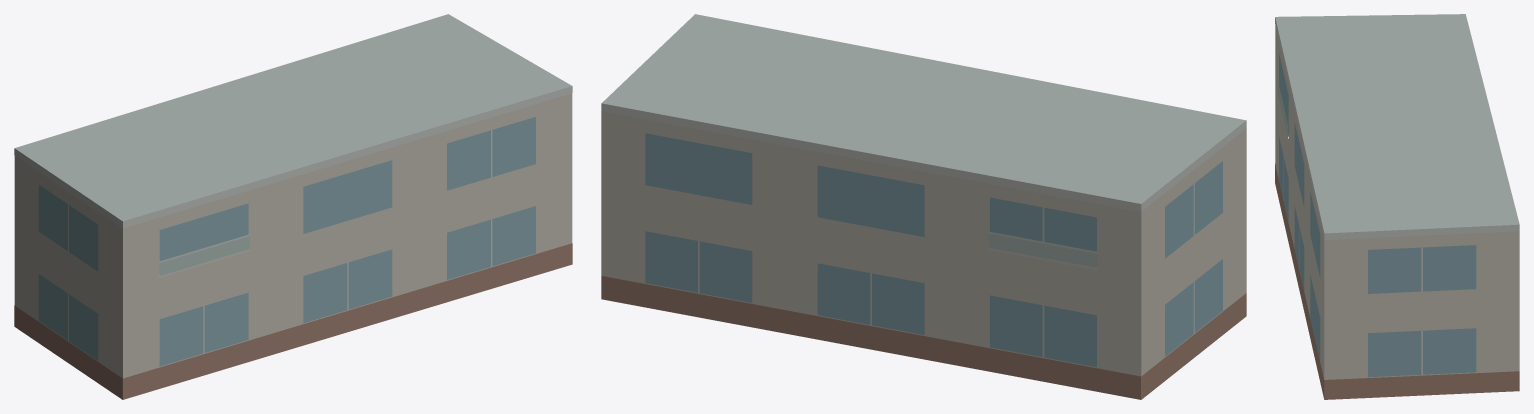
The model's file is survey-upis-32739602.glb.
3 renders of one model, left to right at view 1: azimuth 30°, elevation 25°; view 2: azimuth 150°, elevation 25°; view 3: azimuth 270°, elevation 25°, orthographic. The views are drawn at different scales.
Parts seen in each view (by area): view 1: survey-upis-32739602.tmp; view 2: survey-upis-32739602.tmp; view 3: survey-upis-32739602.tmp.
Boxes of the visible parts, left/top/right/bottom form: survey-upis-32739602.tmp: left=14, top=14, right=572, bottom=399; survey-upis-32739602.tmp: left=601, top=14, right=1246, bottom=399; survey-upis-32739602.tmp: left=1275, top=14, right=1519, bottom=399.
Size of the model in its own units: 17.26 by 6.1 by 8.13.
